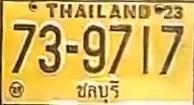1: (142, 25, 149, 74)
3: (37, 24, 60, 72)
7: (159, 24, 183, 74), (108, 23, 131, 73), (12, 23, 35, 72)
9: (82, 23, 104, 72)
CBI: (72, 78, 122, 105)
